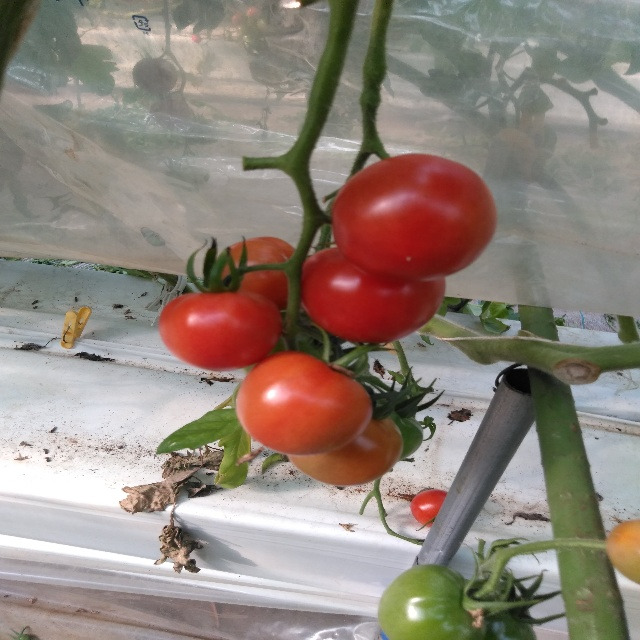l_fully_ripened: (330, 152, 498, 281), (297, 247, 446, 344), (157, 289, 284, 371), (410, 489, 449, 527)
l_green: (377, 564, 484, 640), (464, 579, 537, 640), (372, 399, 424, 463)
l_half_ripened: (235, 350, 374, 456), (285, 409, 404, 487), (214, 236, 305, 311), (605, 518, 640, 586)
